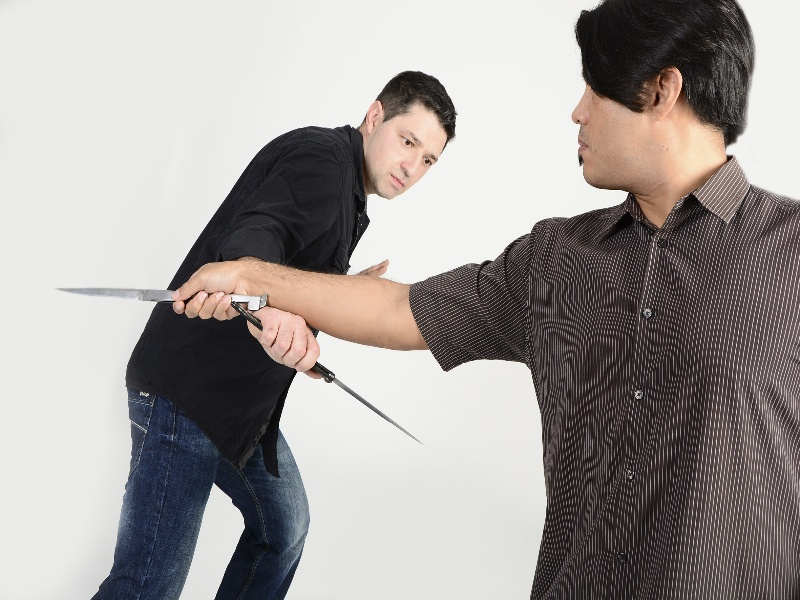hand: (174, 257, 267, 320), (244, 307, 320, 374)
knife: (309, 360, 433, 447), (52, 286, 174, 303)
person: (459, 1, 800, 600), (85, 69, 458, 600)
